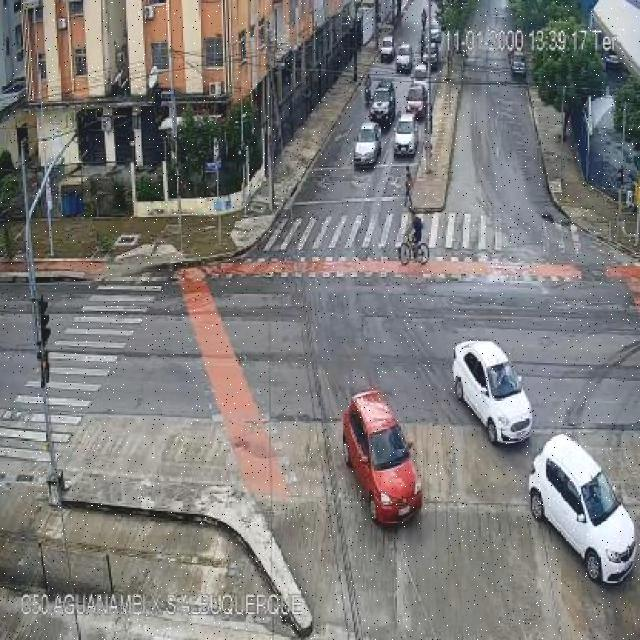Car: (526, 434, 640, 587), (339, 386, 425, 526), (452, 338, 535, 446), (352, 121, 384, 169), (391, 113, 420, 158), (370, 82, 397, 127), (406, 82, 430, 116), (396, 41, 415, 74), (412, 62, 431, 91), (509, 48, 527, 77), (378, 35, 397, 62), (422, 40, 440, 67), (427, 17, 443, 43)
Cycle: (398, 230, 431, 267), (362, 83, 373, 107)
